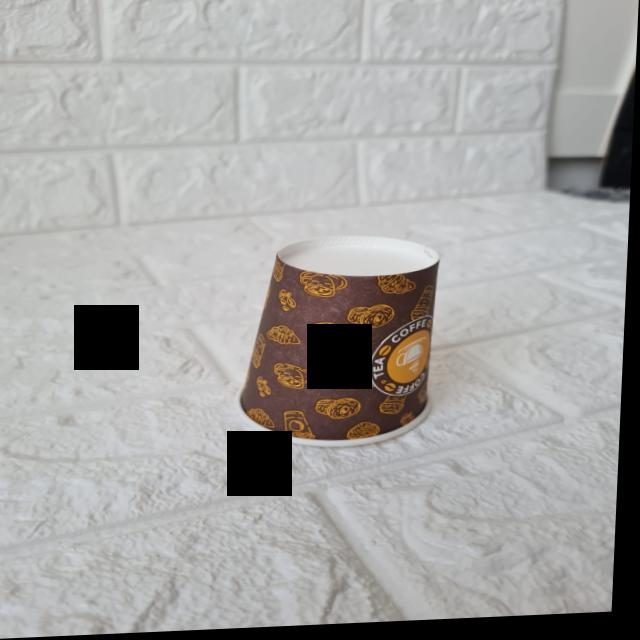cups: (241, 226, 452, 453)
